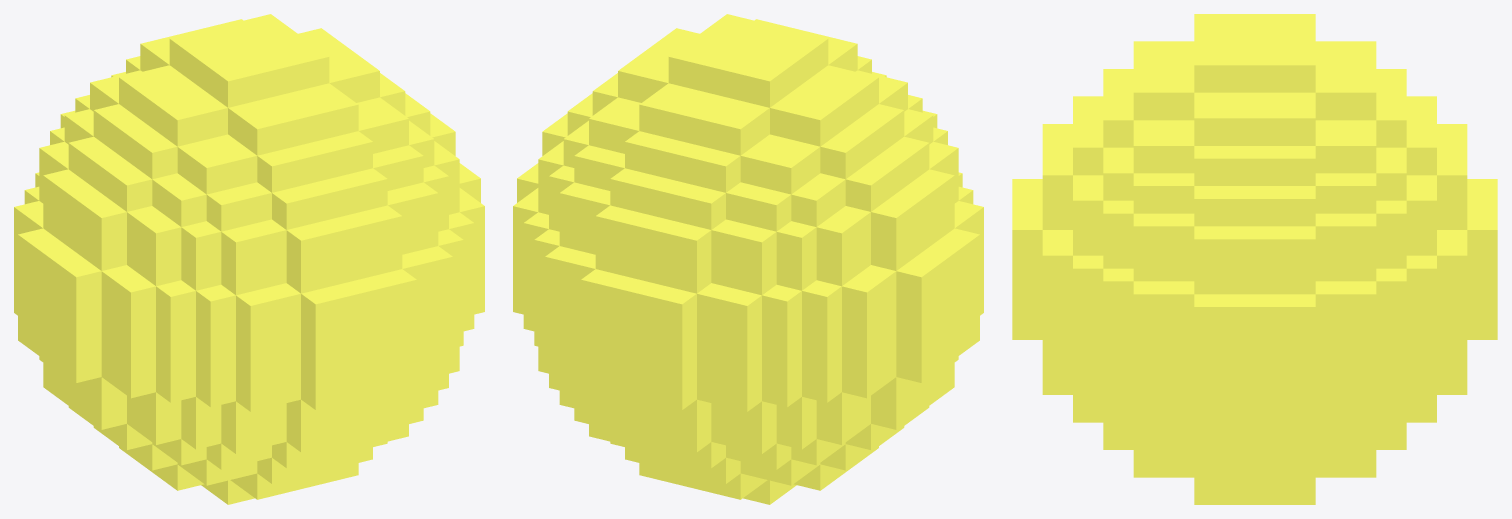
The model's file is 黄色小玉弹.gltf.
3 renders of one model, left to right at view 1: azimuth 30°, elevation 25°; view 2: azimuth 150°, elevation 25°; view 3: azimuth 270°, elevation 25°, orthographic. The views are drawn at different scales.
Visible parts, largest first — view 1: Object; view 2: Object; view 3: Object.
Boxes of the visible parts, x1,y1,x2,y2 form: Object: (14,14,484,504); Object: (513,14,983,504); Object: (1012,14,1497,504).
Bounding box in the file's own units: 16 × 16 × 16.
Materials: 1 (1 with a texture image).
